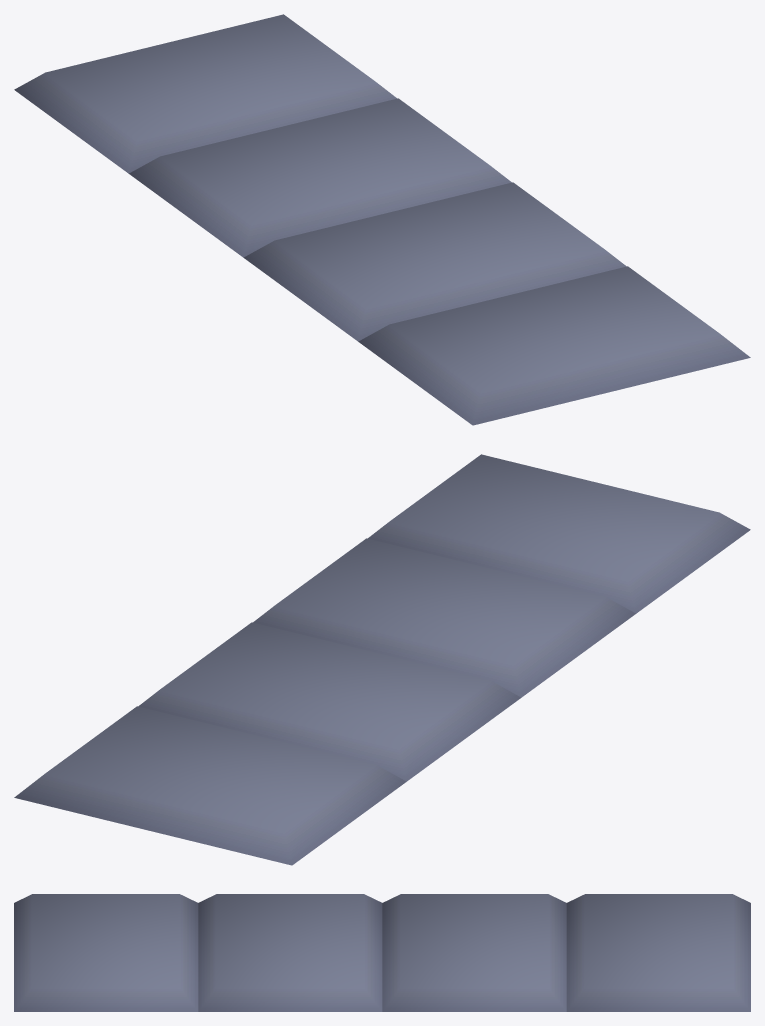
The model's file is path-stones-long.glb.
3 renders of one model, top to bottom at view 1: azimuth 30°, elevation 25°; view 2: azimuth 150°, elevation 25°; view 3: azimuth 270°, elevation 25°, orthographic. The views are drawn at different scales.
Visible parts, largest first — view 1: path-stones-long; view 2: path-stones-long; view 3: path-stones-long.
Part boxes in pixels (x1,y1,x2,y2): path-stones-long: (14, 14, 750, 425); path-stones-long: (14, 454, 750, 865); path-stones-long: (14, 894, 750, 1011).
Bounding box in the file's own units: 0.14 × 0.01 × 0.4.
Materials: 1 (1 with a texture image).
